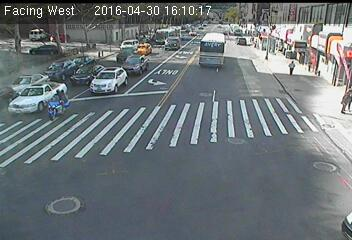neg: (142, 176, 173, 217), (40, 83, 70, 122), (90, 159, 118, 196), (200, 56, 227, 93), (29, 190, 55, 225), (163, 107, 188, 140), (260, 89, 284, 121), (102, 61, 124, 90), (265, 193, 286, 220), (174, 36, 194, 63), (308, 153, 328, 179), (52, 35, 72, 61), (234, 124, 253, 149), (133, 49, 149, 71), (227, 178, 241, 196), (254, 44, 268, 62), (216, 27, 230, 45)
pos: (284, 57, 297, 73)
